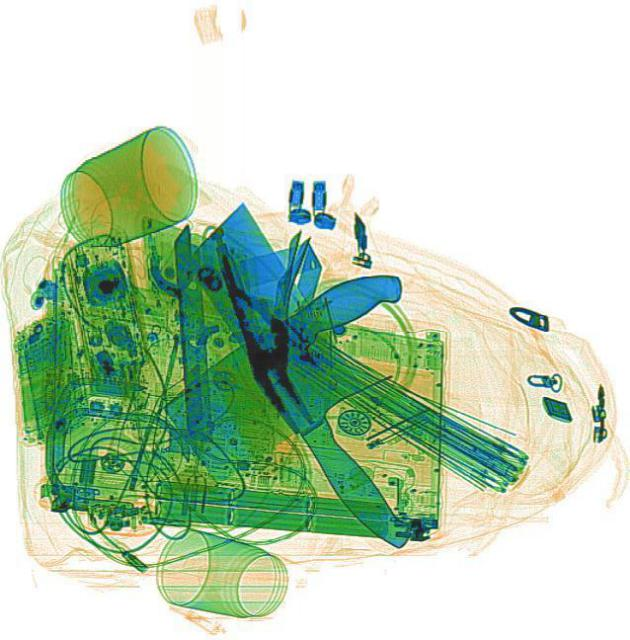Knife: (160, 202, 464, 556), (154, 251, 442, 485)
